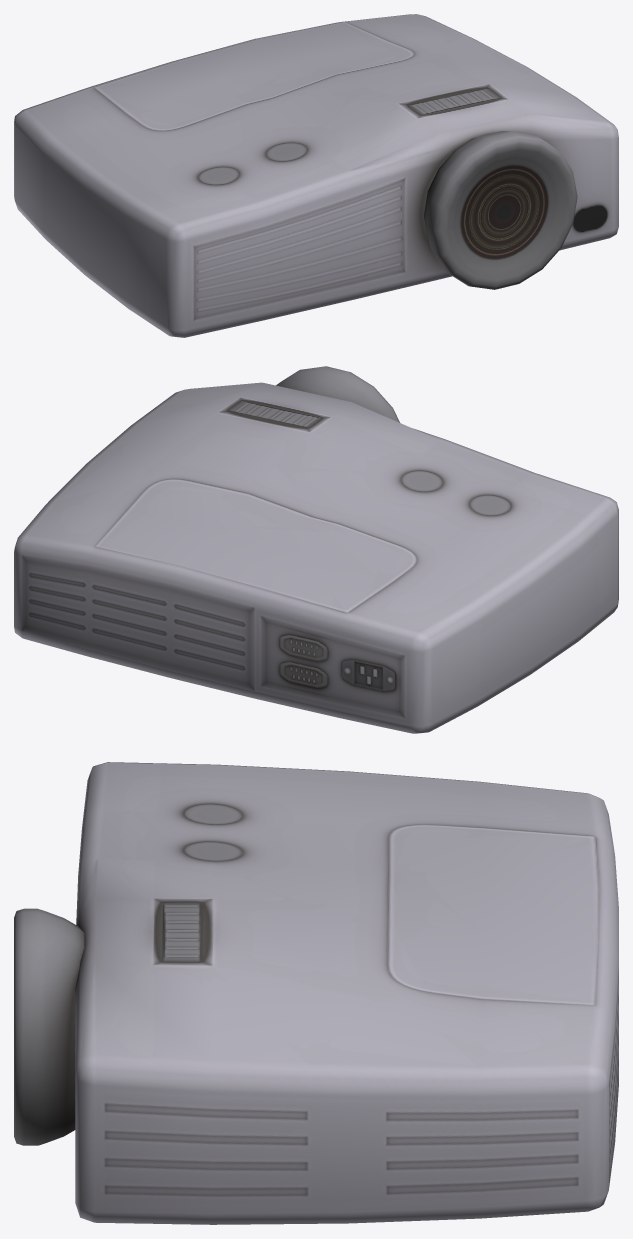
File: OfficeProjector01_1.FBX
3 views of the same model, one above another, from view 1: azimuth 30°, elevation 25°; view 2: azimuth 150°, elevation 25°; view 3: azimuth 270°, elevation 25° (orthographic). The views are drawn at different scales.
Parts seen in each view (by area): view 1: OfficeProjector01_1; view 2: OfficeProjector01_1; view 3: OfficeProjector01_1.
Boxes of the visible parts, x1,y1,x2,y2 form: OfficeProjector01_1: [14, 14, 618, 337]; OfficeProjector01_1: [14, 366, 618, 733]; OfficeProjector01_1: [14, 762, 618, 1224].
Size of what is drawn, in the model's own units: 0.6703 by 0.2252 by 0.5427.
